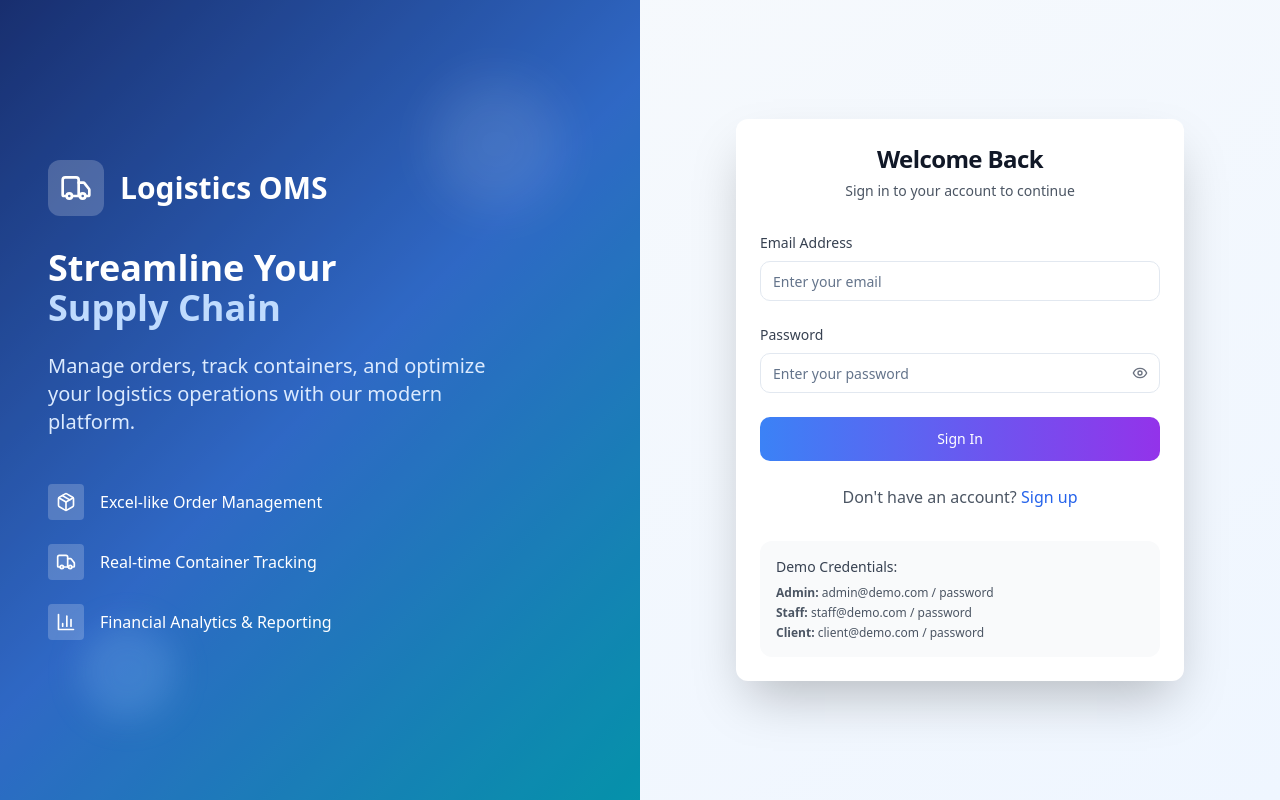
Test: Login Component - All Elements and Buttons › Form Validation Tests › validates empty email field
Step 1. Click the button "Sign In" → (960, 439), box [760,417,1160,461]
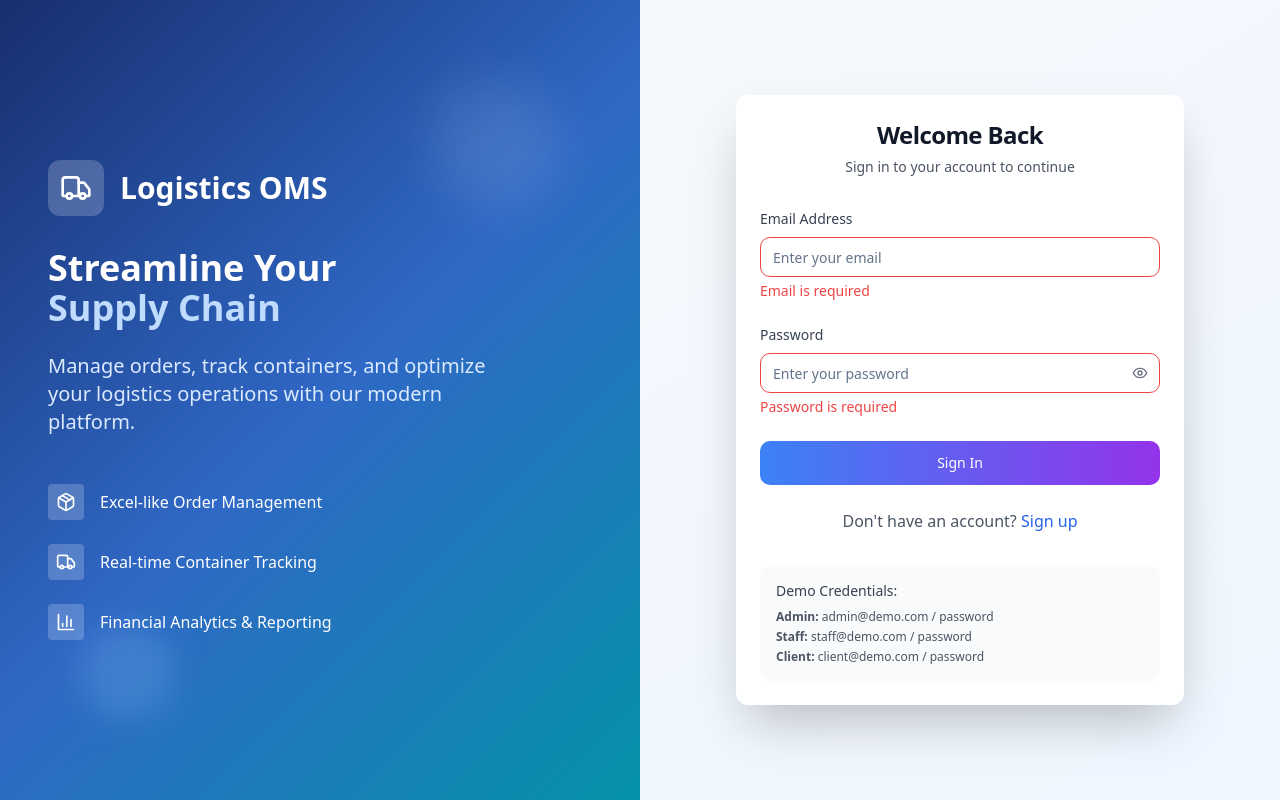
Expected: the text "Email is required" is shown, [760,281,870,300]
